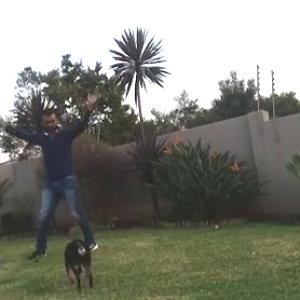takeoff: (1, 87, 96, 260)
